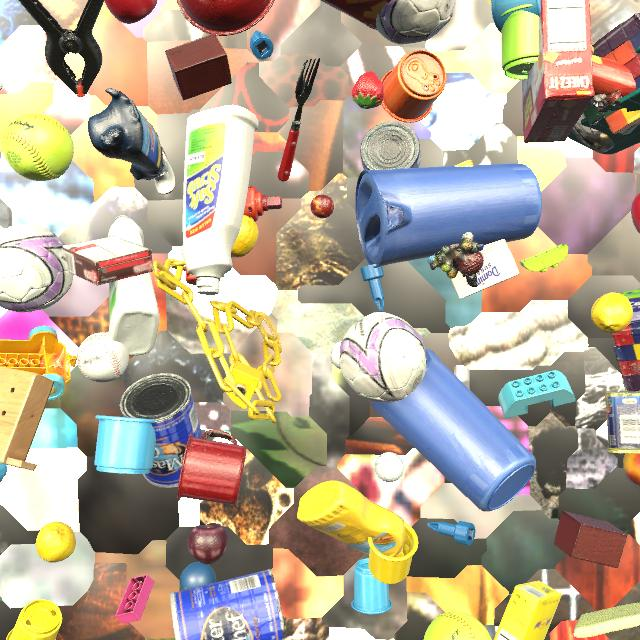ycb_002_master_chef_can: (120, 373, 202, 488), (170, 569, 286, 640)
ycb_003_cracker_box: (522, 0, 595, 143), (320, 0, 391, 30)
ycb_004_sugar_box: (450, 160, 519, 299), (494, 581, 562, 640), (30, 311, 32, 313)
ycb_006_mustard_bottle: (297, 480, 406, 557)
ycb_007_tuna_fish_can: (360, 121, 421, 170)
ycb_008_pudding_box: (62, 236, 153, 286)
ycb_010_potted_meat_can: (605, 390, 640, 454)
ycb_012_strawberry: (352, 71, 384, 109)
ycb_013_apple: (104, 0, 157, 24), (631, 193, 640, 234)
ycb_014_lemon: (591, 292, 633, 333), (36, 522, 76, 563), (231, 215, 258, 257)
ycb_015_peach: (623, 453, 640, 486)
ycb_018_plum: (187, 523, 228, 564)
